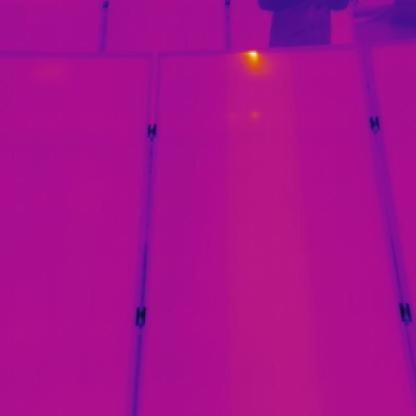anomaly: (237, 49, 268, 70)
